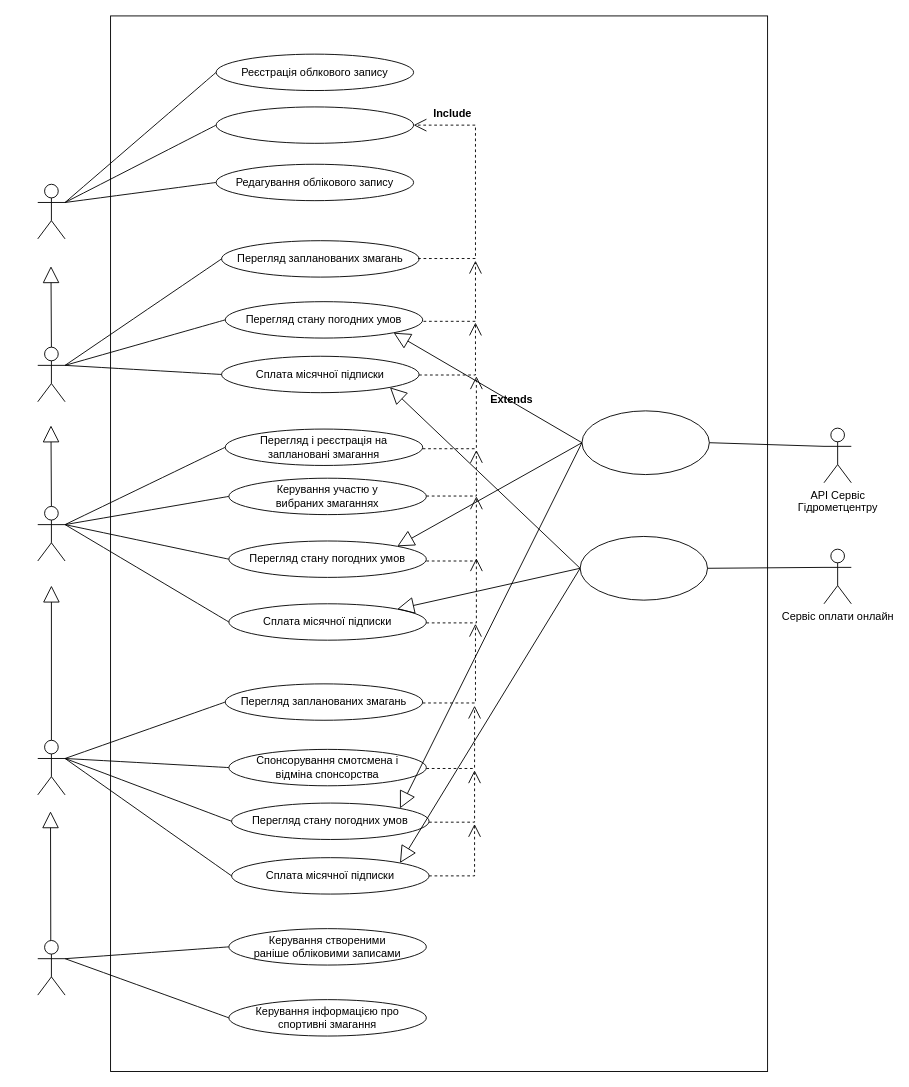
Image size: 909x1087. Some labels were removed from this diagram. Here are the shapes that lost their labels. From the top down, the centre of each, then its label:
At point 314,124: "Авторизація".
At point 51,211: "Користувач".
At point 51,374: "Глядач".
At point 645,442: "Залучення системи прогнозу погоди".
At point 51,533: "Спортсмен".
At point 643,568: "Залучення системи сплати онлайн".
At point 51,767: "Спонсор".
At point 51,967: "Адміністратор".
